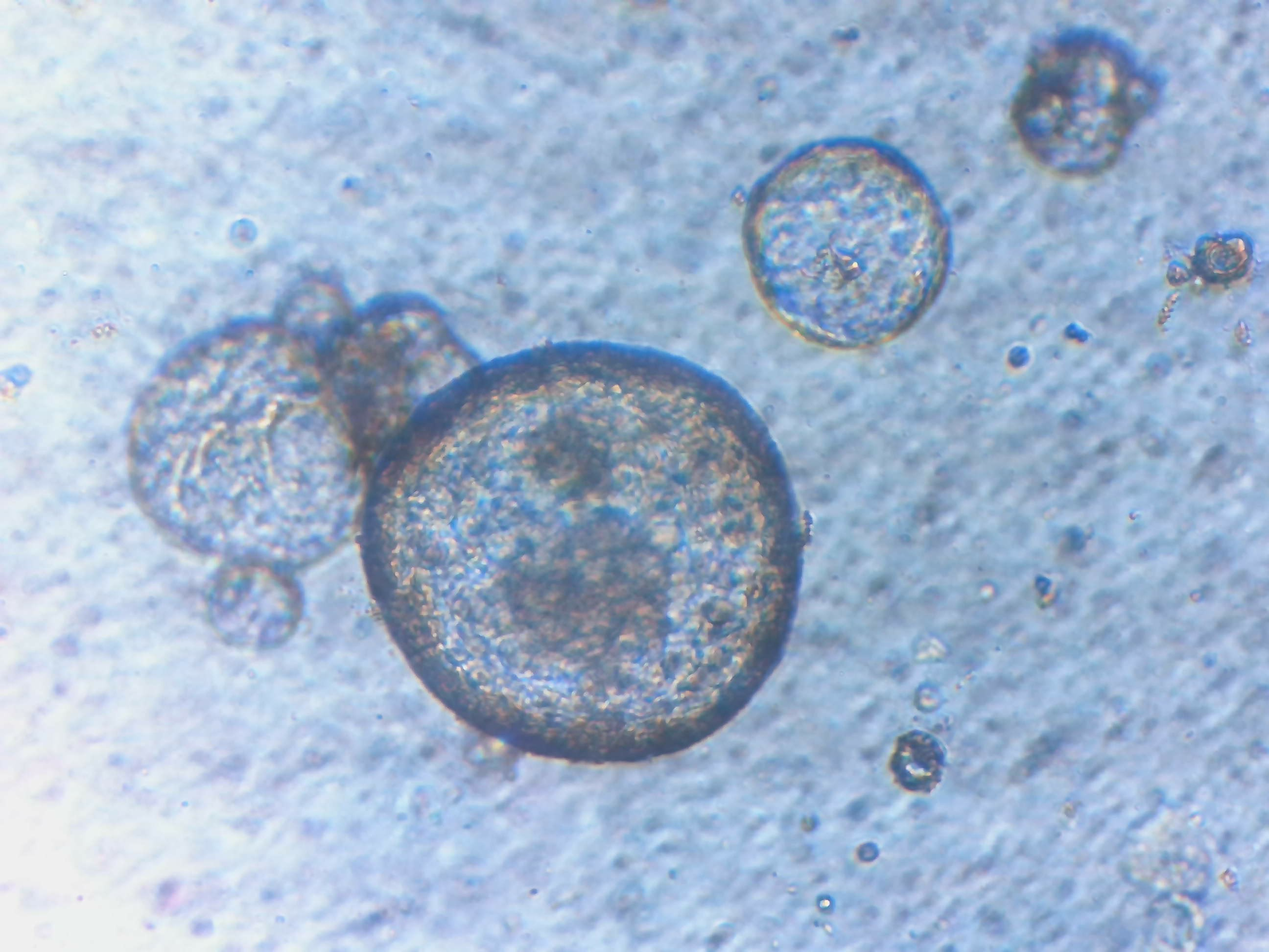organoid: (127, 293, 817, 758), (748, 140, 962, 346), (1016, 33, 1135, 170)
